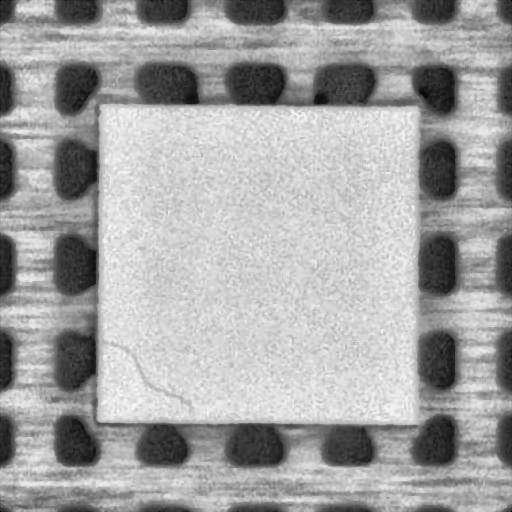DIE_CRACK: (98, 339, 186, 400)
